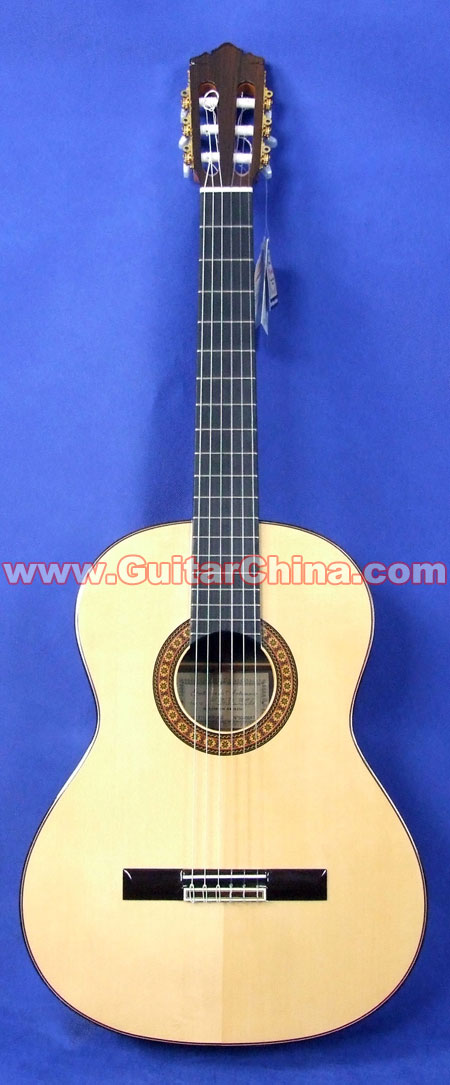guitar: (22, 47, 430, 1054)
